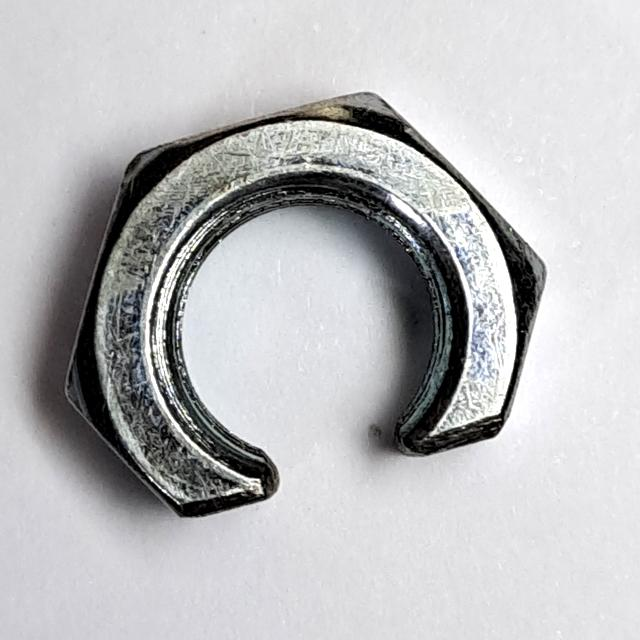Fracture: (53, 86, 560, 534)
